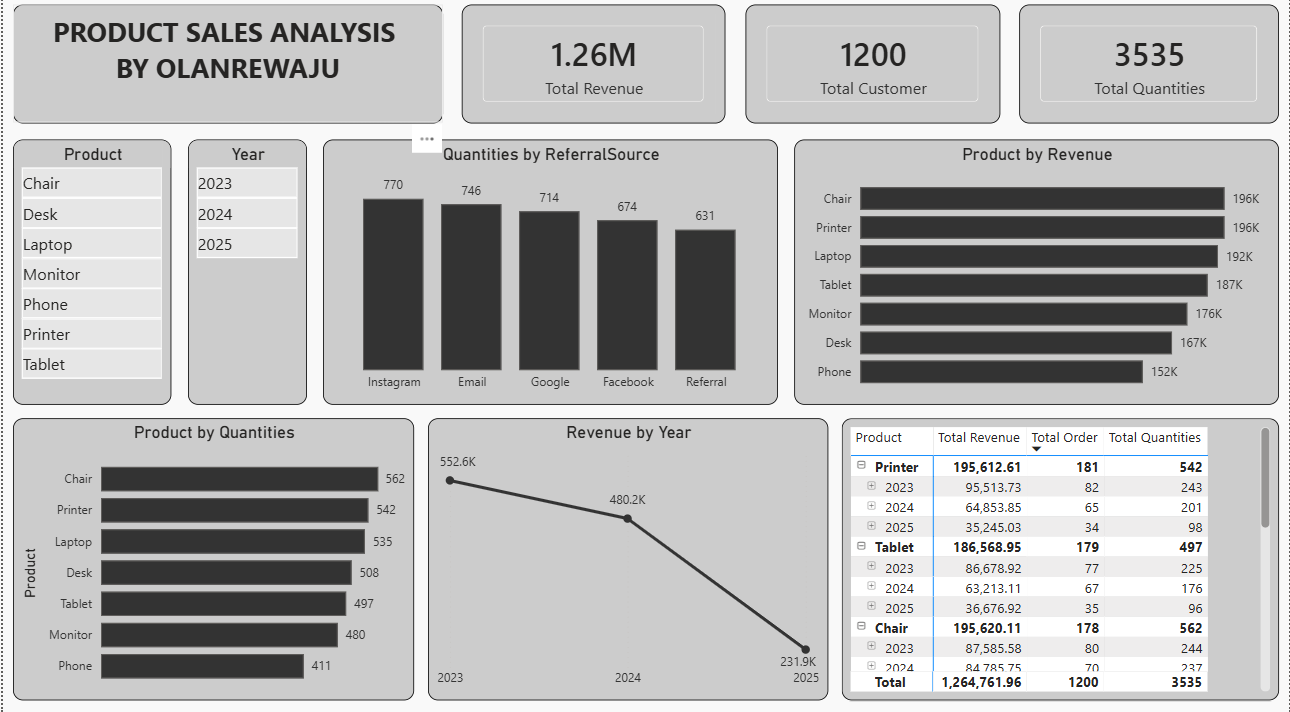

The dashboard page shown, as its layout file describes it:
{"tool":"powerbi","page":{"name":"Page 1","canvas":[1280,720],"ordinal":0},"visuals":[{"type":"cardVisual","fields":{"Data":["Sheet1.Total Customer"]},"box":[738.5,12.4,253.8,118.2],"z":0},{"type":"cardVisual","fields":{"Data":["Sheet1.Total Revenue"]},"box":[456.9,12.4,262.5,118.2],"z":1000},{"type":"cardVisual","fields":{"Data":["Sheet1.Total Quantities"]},"box":[1011.3,12.4,258.7,118.2],"z":2000},{"type":"barChart","title":"Product by Quantities","fields":{"Category":["Sheet1.Product"],"Y":["Sheet1.Total Quantities"]},"box":[10,424.2,399.3,281.1],"z":3000},{"type":"barChart","title":"Product by Revenue","fields":{"Category":["Sheet1.Product"],"Y":["Sheet1.Total Revenue"]},"box":[787.4,146.8,482.7,263.7],"z":4000},{"type":"lineChart","title":"Revenue by Year","fields":{"Y":["Sheet1.Total Revenue"],"Category":["Sheet1.Date.Variation.Date Hierarchy.Year"]},"box":[422.9,424.2,398.1,281.1],"z":5000},{"type":"pivotTable","fields":{"Values":["Sheet1.Total Revenue","Sheet1.Total Order","Sheet1.Total Quantities"],"Rows":["Sheet1.Product","Sheet1.Date.Variation.Date Hierarchy.Year","Sheet1.Date.Variation.Date Hierarchy.Month"]},"box":[834.7,424.2,435.4,281.1],"z":6000},{"type":"columnChart","title":"Quantities by ReferralSource","fields":{"Y":["Sheet1.Total Quantities"],"Category":["Sheet1.ReferralSource"]},"box":[318.5,146.8,452.8,263.7],"z":7000},{"type":"listSlicer","fields":{"Values":["Sheet1.Product"]},"box":[10,146.8,158,263.7],"z":8000},{"type":"listSlicer","fields":{"Values":["Sheet1.Date.Variation.Date Hierarchy.Year"]},"box":[184.1,146.8,118.2,263.7],"z":9000},{"type":"textbox","box":[10,12.4,427.9,118.2],"z":10000}]}

Visuals, with their boxes in screenshot pixels (x1, y1, x2, y2), scaled from the page's 1280x720 canvas onto the 1290x712 screenshot:
cardVisual - Sheet1.Total Customer: detection(744, 12, 1000, 129)
cardVisual - Sheet1.Total Revenue: detection(460, 12, 725, 129)
cardVisual - Sheet1.Total Quantities: detection(1019, 12, 1280, 129)
"Product by Quantities" barChart: detection(10, 419, 412, 697)
"Product by Revenue" barChart: detection(794, 145, 1280, 406)
"Revenue by Year" lineChart: detection(426, 419, 827, 697)
pivotTable - Sheet1.Total Revenue x Sheet1.Total Order: detection(841, 419, 1280, 697)
"Quantities by ReferralSource" columnChart: detection(321, 145, 777, 406)
listSlicer - Sheet1.Product: detection(10, 145, 169, 406)
listSlicer - Sheet1.Date.Variation.Date Hierarchy.Year: detection(186, 145, 305, 406)
textbox: detection(10, 12, 441, 129)
